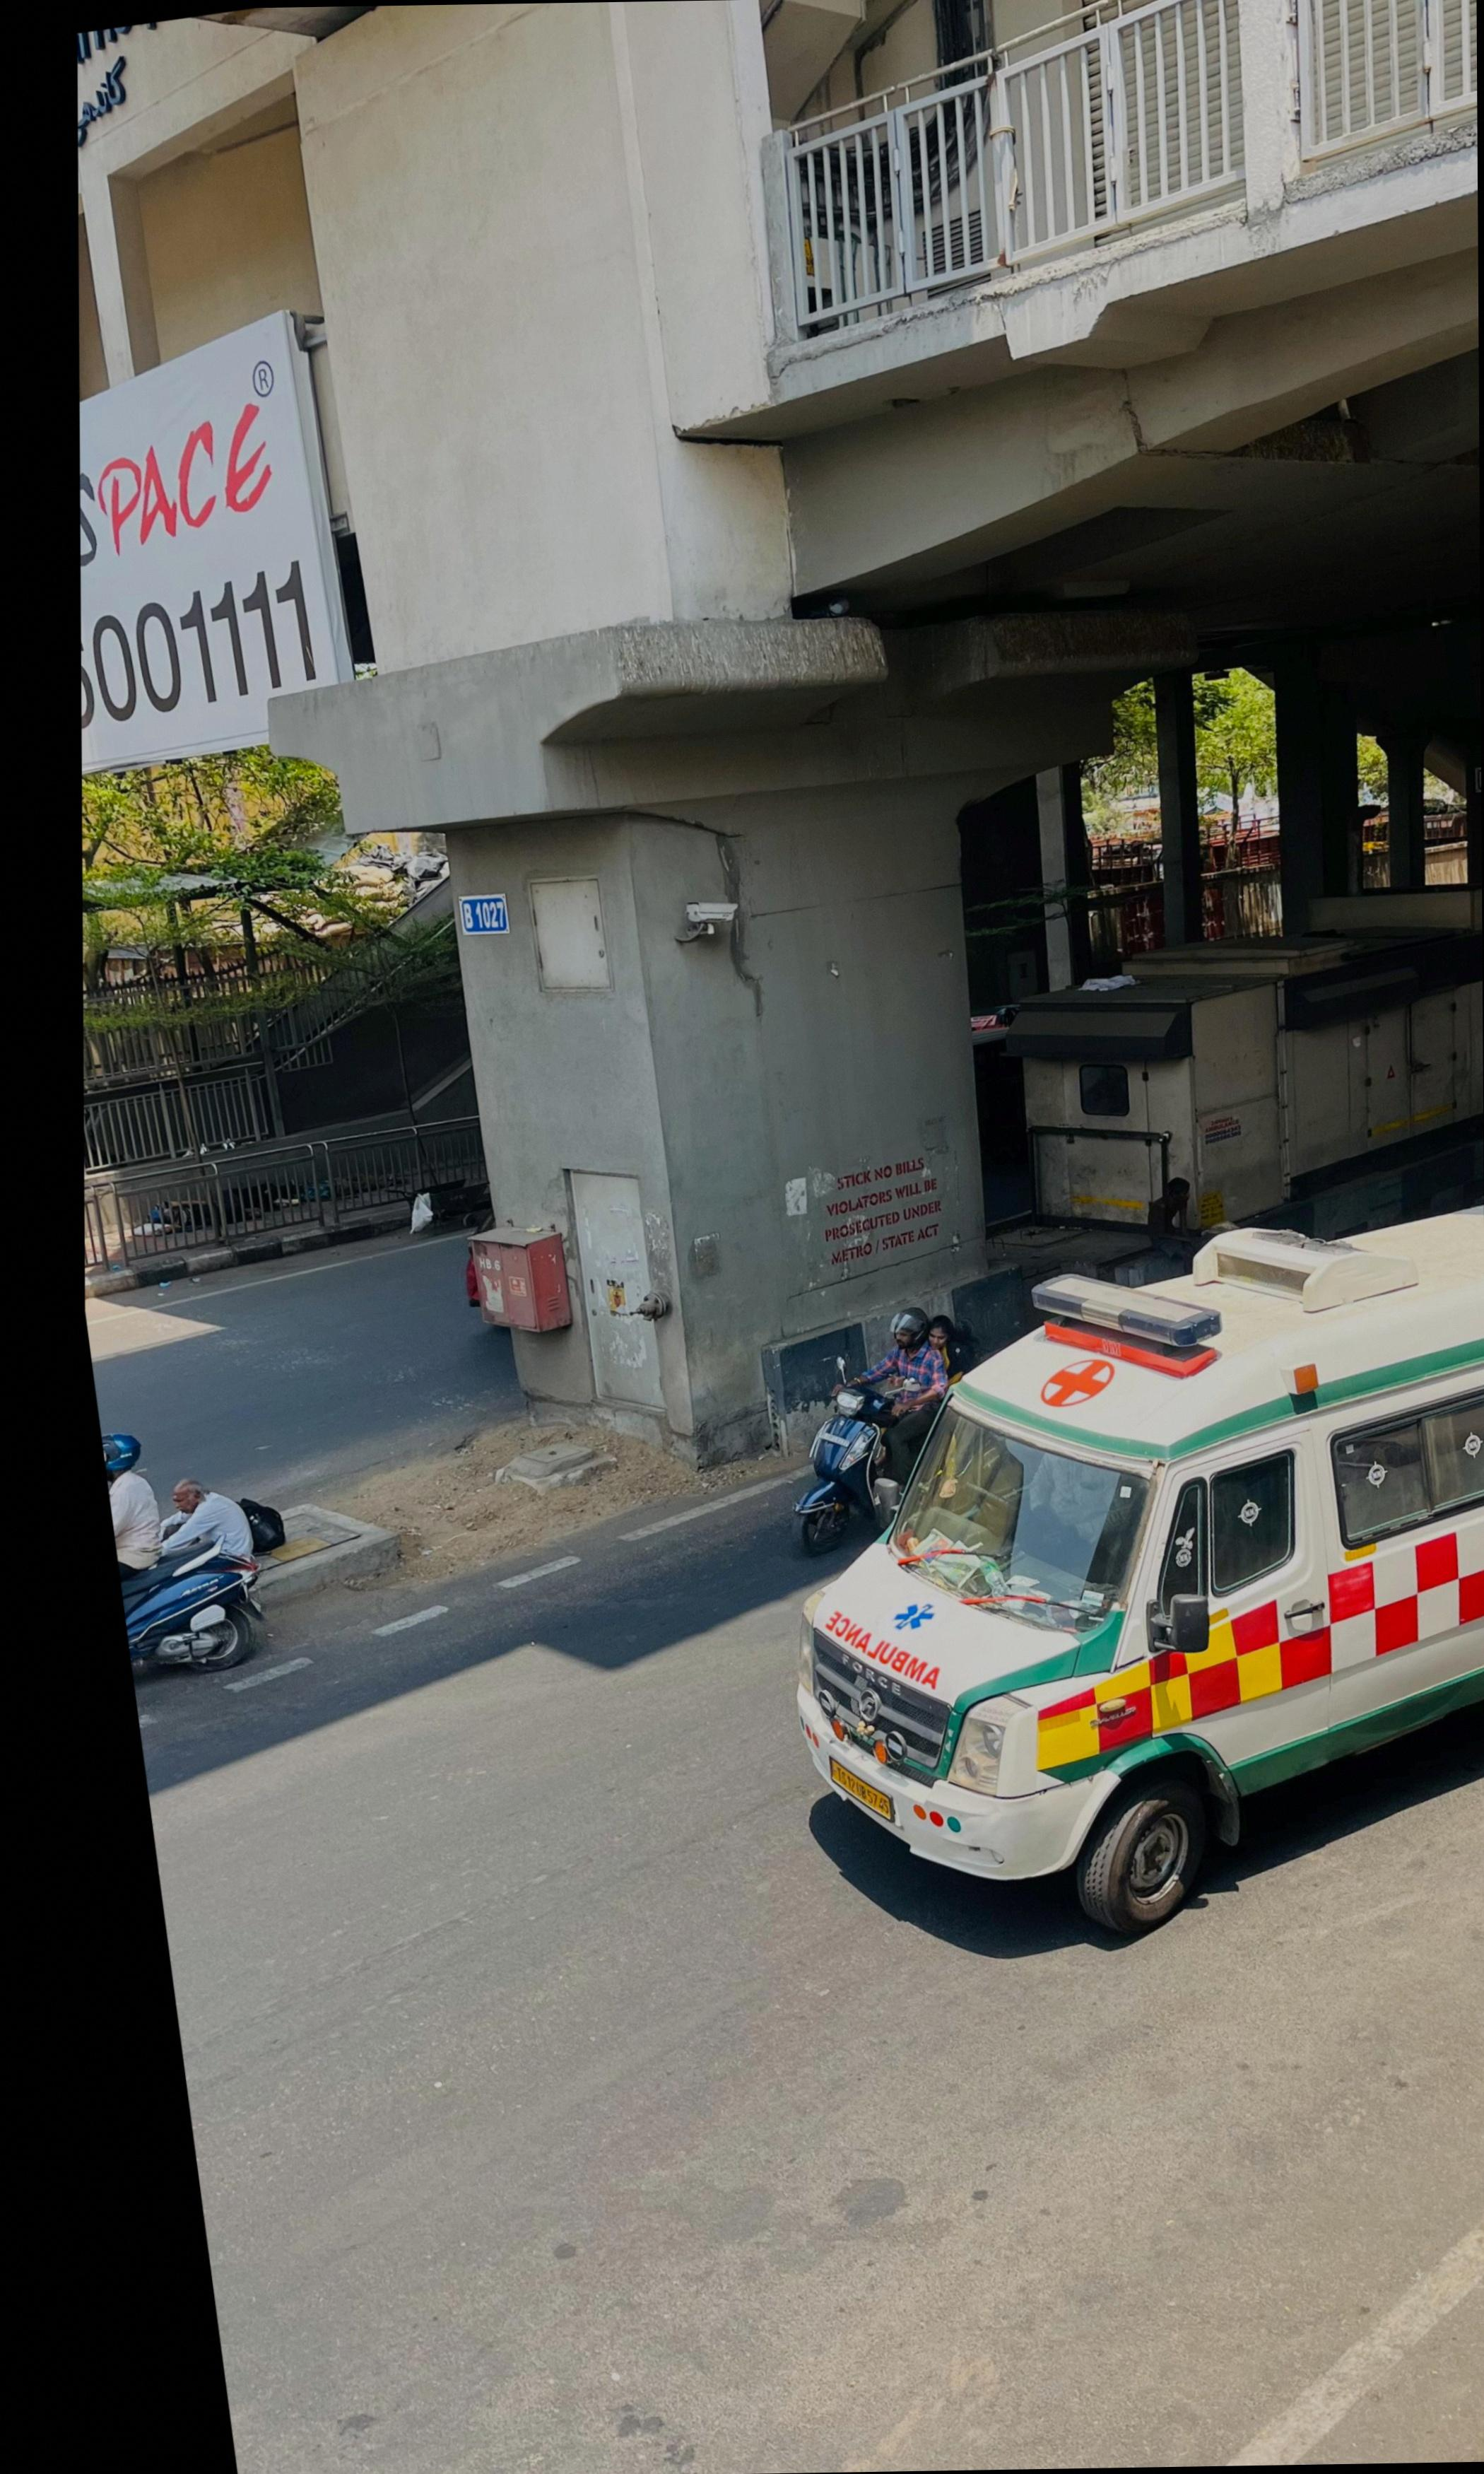ambulance: (802, 1212, 1484, 1951)
